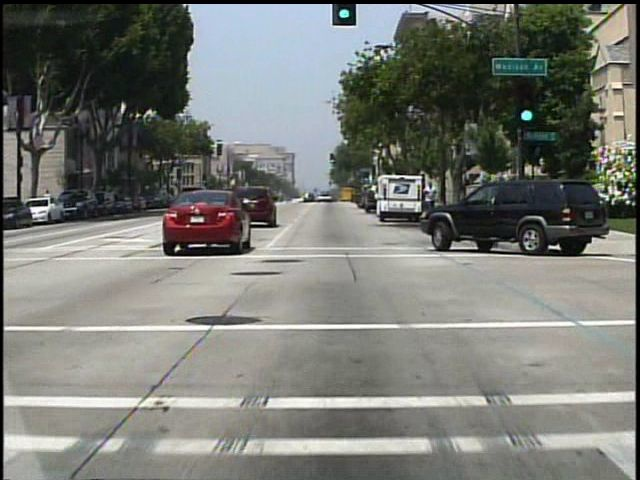person: (423, 182, 439, 222), (354, 185, 368, 213), (44, 188, 56, 212)
